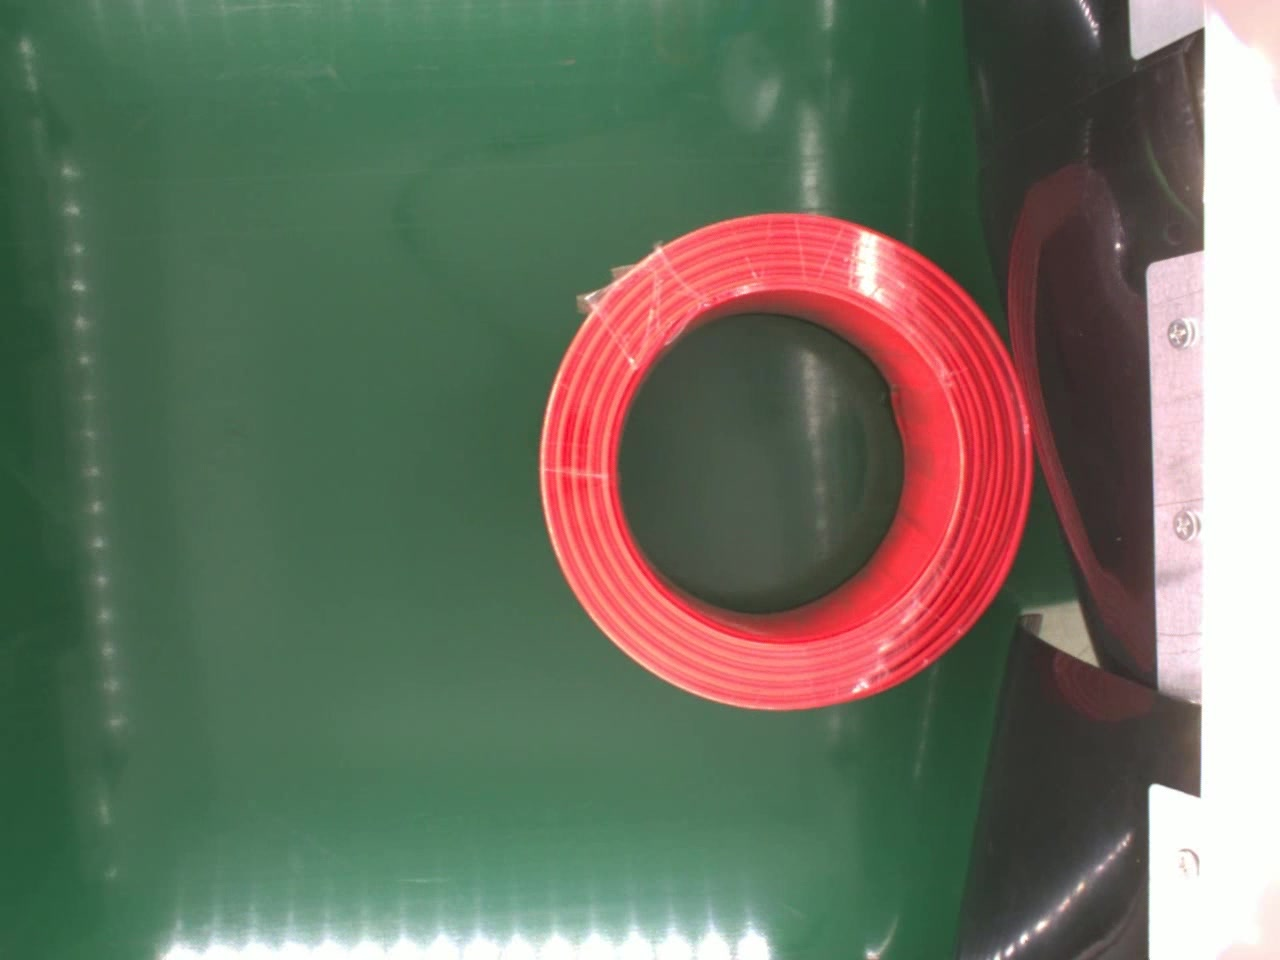red: (534, 206, 1038, 716)
